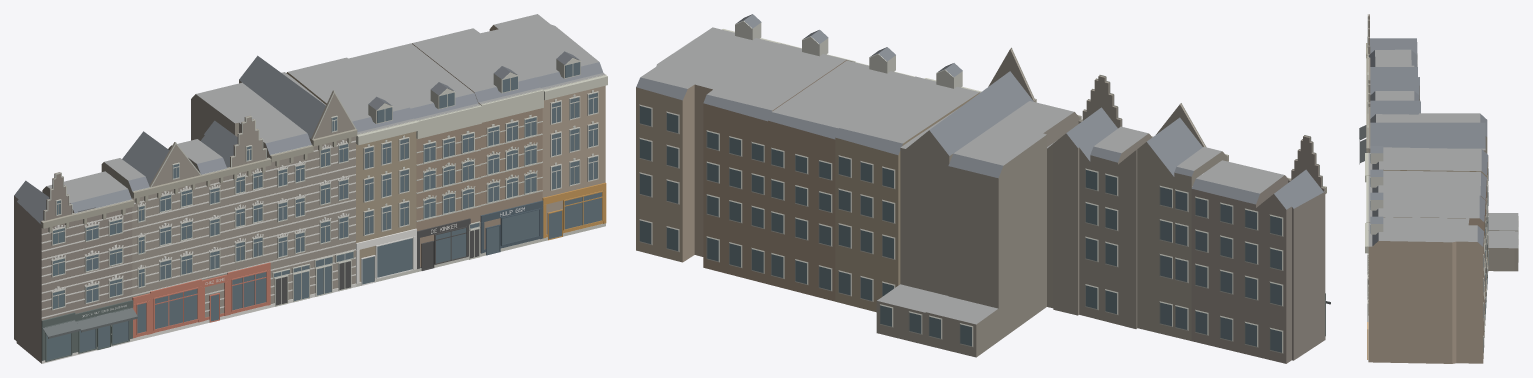
File: chunk-face-kinker-49-63.glb
3 renders of one model, left to right at view 1: azimuth 30°, elevation 25°; view 2: azimuth 150°, elevation 25°; view 3: azimuth 270°, elevation 25°, orthographic. The views are drawn at different scales.
Parts seen in each view (by area): view 1: face-kinker-49-63; view 2: face-kinker-49-63; view 3: face-kinker-49-63.
Part boxes in pixels (<box>): face-kinker-49-63: <box>14,14,607,363</box>; face-kinker-49-63: <box>636,14,1330,363</box>; face-kinker-49-63: <box>1359,14,1518,363</box>.
Bounding box in the file's own units: 54.92 × 18.59 × 17.44.
